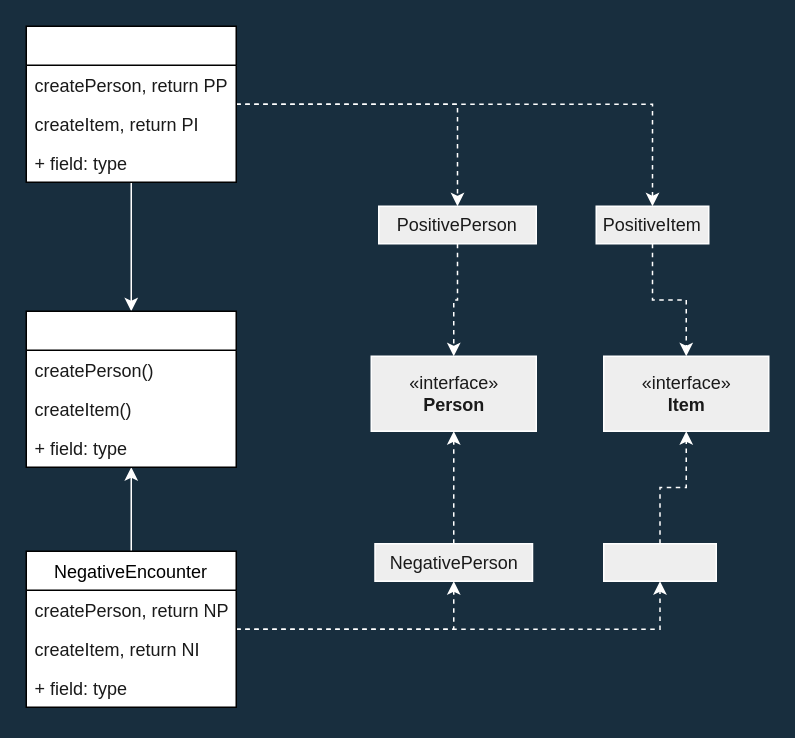
The diagram is 795 pixels wide and 738 high, and some of its shapes have lost their labels. Each missing label, with the box of its shape:
Encounter: (25, 310, 236, 467)
NegativeItem: (602, 542, 716, 581)
PositiveEncounter: (25, 25, 236, 182)
